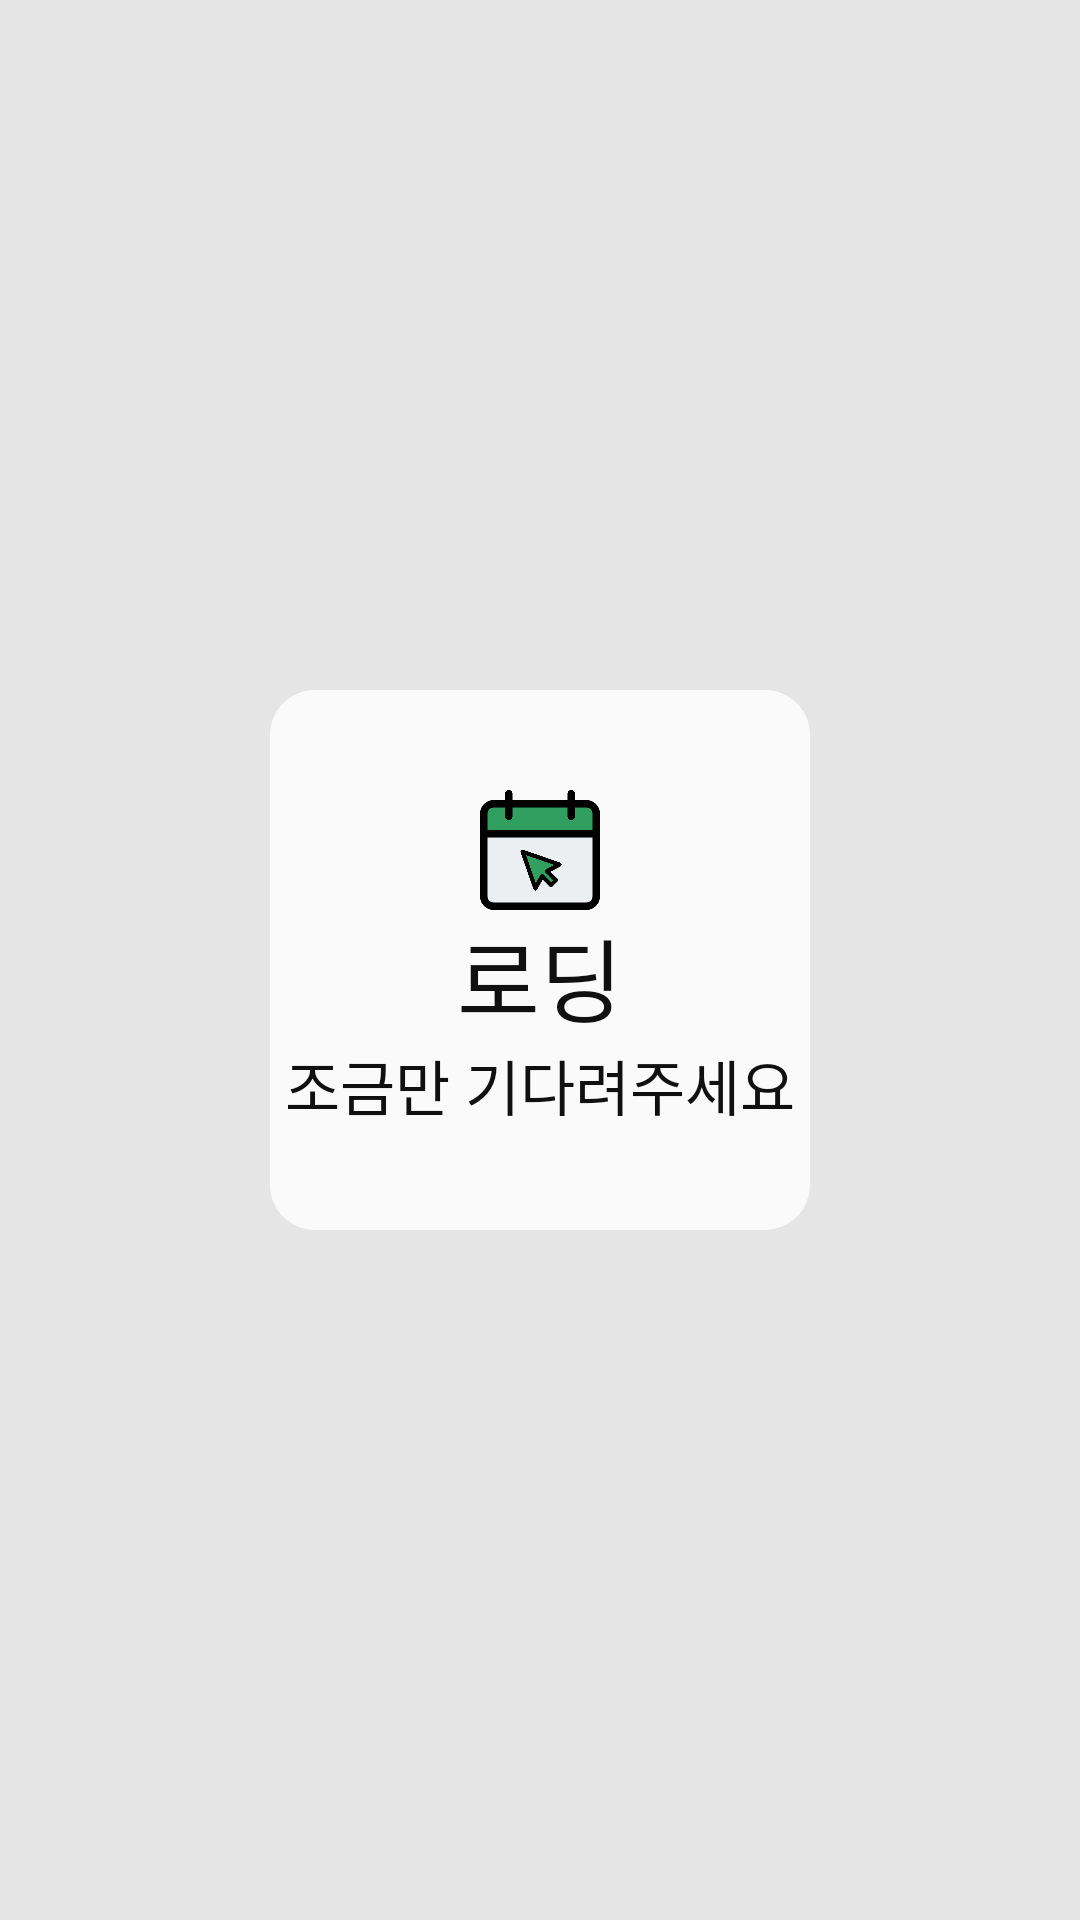

Icon bounding boxes for this 1080x1920 phone screenshot, format rect(x1, y1, x2, y2):
appicon: rect(480, 790, 600, 910)
